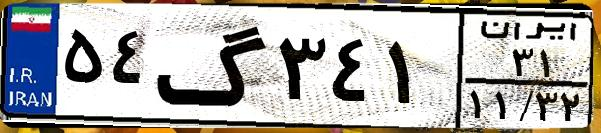1: (385, 28, 445, 110), (537, 27, 568, 80), (470, 70, 495, 125), (495, 70, 520, 125)
2: (560, 70, 590, 125)
3: (270, 28, 330, 110), (508, 27, 537, 80), (535, 70, 560, 125)
4: (330, 28, 385, 110), (110, 28, 156, 98)
5: (57, 26, 110, 100)
گ: (156, 12, 270, 120)
